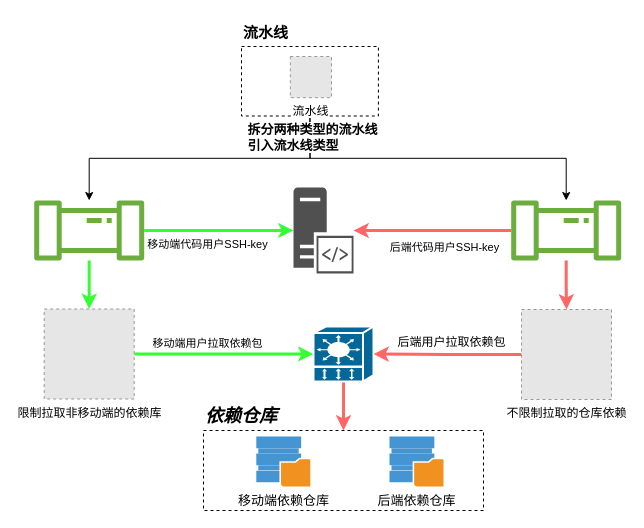
This 644x528 diagram has some shape labels left out. Grey dashed boxes stand in for pictures. The shapes that lost their labels are listed below. From the top down, each one's box as (x1, y1, x2, y2) in pixels, then its label:
(33, 200, 144, 260): 移动端流水线
(510, 200, 621, 260): 后端流水线
(312, 325, 374, 382): 中转机器 128.192.191.33-34
